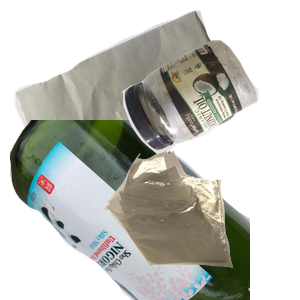glass: (10, 120, 250, 300)
paper: (12, 10, 240, 176)
plastic: (120, 37, 300, 185)
trash: (101, 148, 300, 300)
